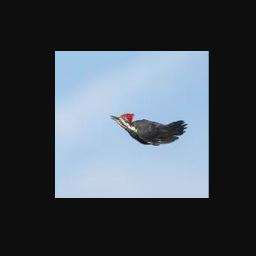Woodpecker: (111, 113, 189, 145)
